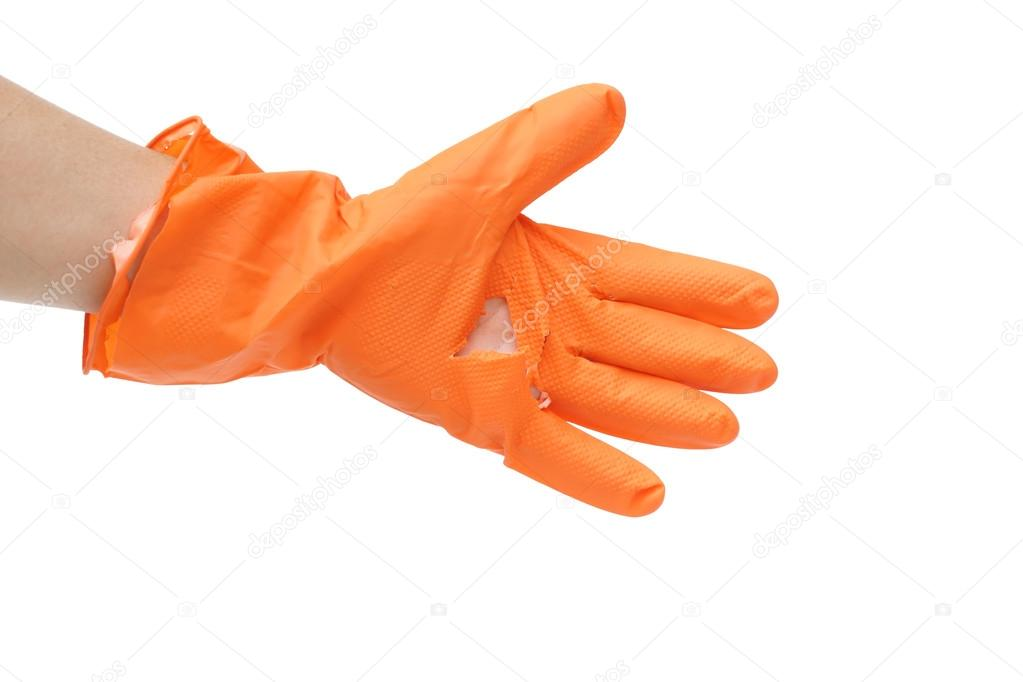defected: (245, 79, 859, 556)
